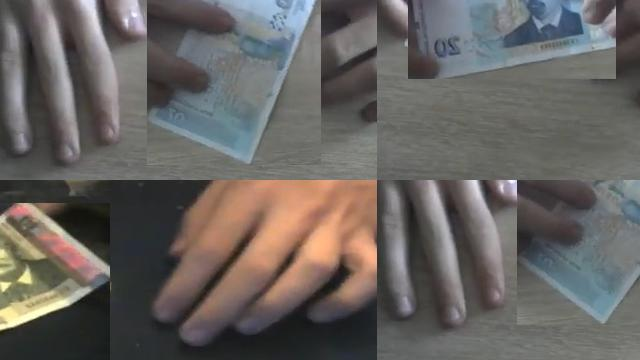10leva: (0, 203, 110, 336), (0, 243, 112, 360)
20leva: (147, 0, 316, 165), (517, 180, 640, 325), (408, 0, 616, 79)
